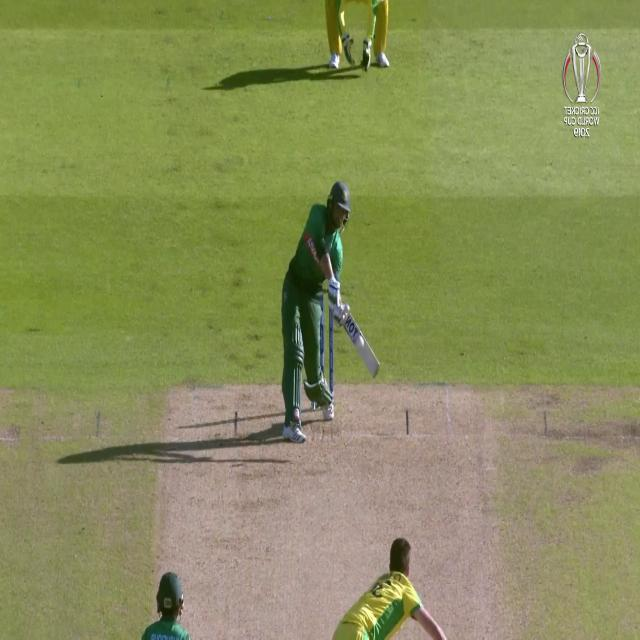ball: (354, 332, 367, 354)
